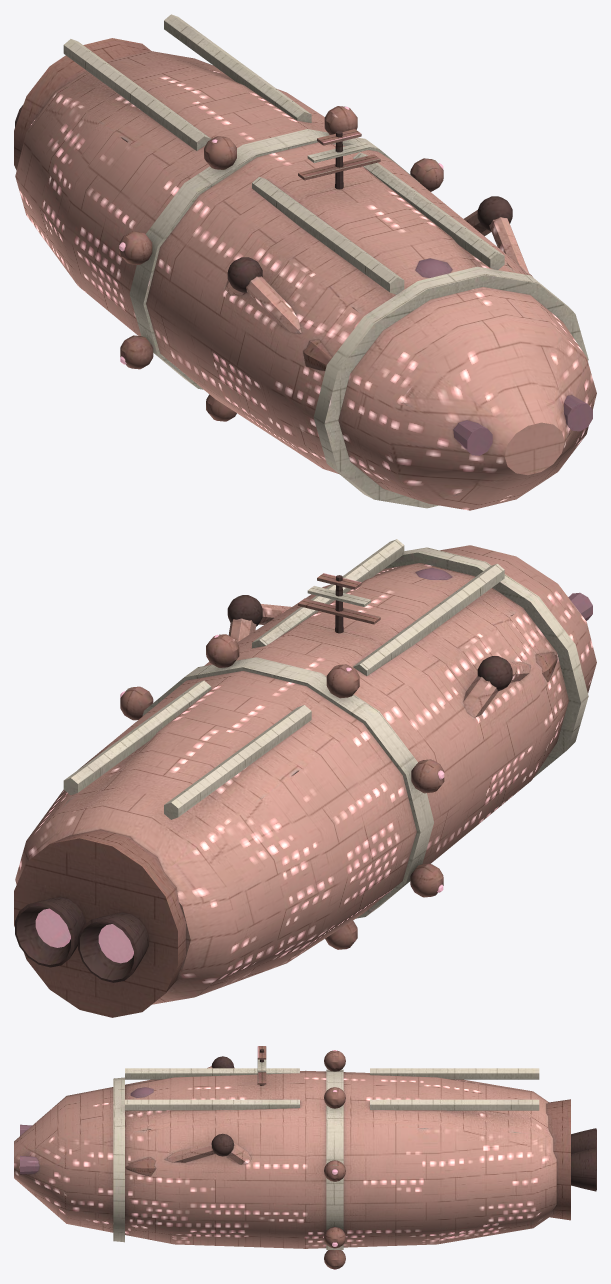
The model's file is tessari_frigate.glb.
3 views of the same model, one above another, from view 1: azimuth 30°, elevation 25°; view 2: azimuth 150°, elevation 25°; view 3: azimuth 270°, elevation 25° (orthographic). The views are drawn at different scales.
Parts seen in each view (by area): view 1: HULL, SYS_BUS_A, SYS_BUS_F, SYS_DRIVE, SYS_WPN2, SYS_SENSORS, SYS_WPN1; view 2: HULL, SYS_DRIVE, SYS_BUS_A, SYS_BUS_F, SYS_WPN2, SYS_SENSORS, SYS_WPN1; view 3: HULL, SYS_BUS_A, SYS_DRIVE, SYS_BUS_F, SYS_WPN1, SYS_SENSORS.
Boxes of the visible parts, left/top/right/bottom form: HULL: left=15, top=51, right=596, bottom=510; SYS_BUS_A: left=63, top=14, right=311, bottom=150; SYS_BUS_F: left=252, top=152, right=504, bottom=294; SYS_DRIVE: left=14, top=38, right=150, bottom=170; SYS_WPN2: left=225, top=257, right=332, bottom=370; SYS_SENSORS: left=298, top=129, right=380, bottom=189; SYS_WPN1: left=464, top=196, right=529, bottom=275; HULL: left=15, top=545, right=596, bottom=1004; SYS_DRIVE: left=14, top=829, right=186, bottom=1017; SYS_BUS_A: left=63, top=680, right=311, bottom=819; SYS_BUS_F: left=252, top=539, right=504, bottom=675; SYS_WPN2: left=463, top=652, right=557, bottom=717; SYS_SENSORS: left=298, top=573, right=380, bottom=633; SYS_WPN1: left=227, top=595, right=291, bottom=642; HULL: left=14, top=1050, right=556, bottom=1269; SYS_BUS_A: left=370, top=1068, right=539, bottom=1110; SYS_DRIVE: left=546, top=1099, right=596, bottom=1220; SYS_BUS_F: left=125, top=1068, right=299, bottom=1110; SYS_WPN1: left=125, top=1133, right=251, bottom=1176; SYS_SENSORS: left=257, top=1046, right=266, bottom=1085.
Bounding box in the file's own units: 12.16 × 11.34 × 29.89.
1 material, 1 textured.
